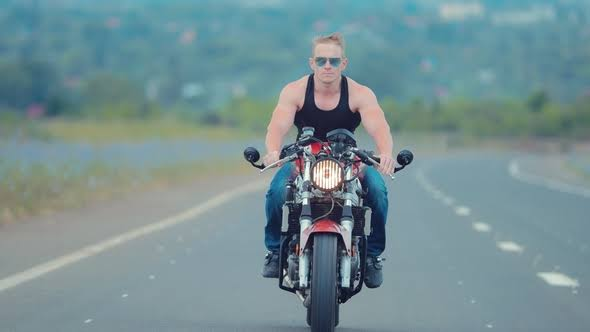bike: (241, 122, 433, 332)
